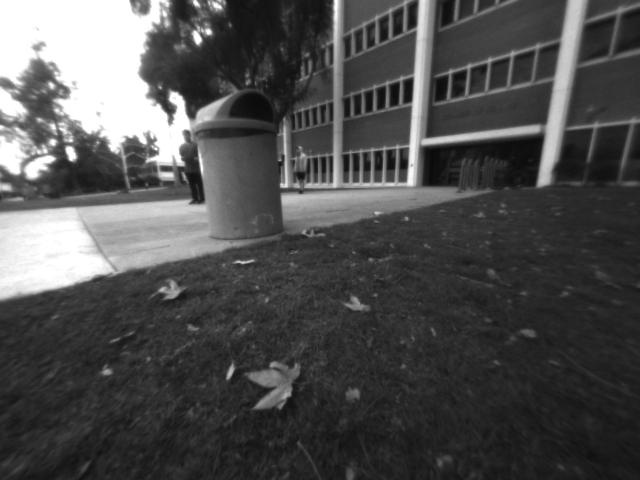trashcan: (187, 86, 298, 246)
